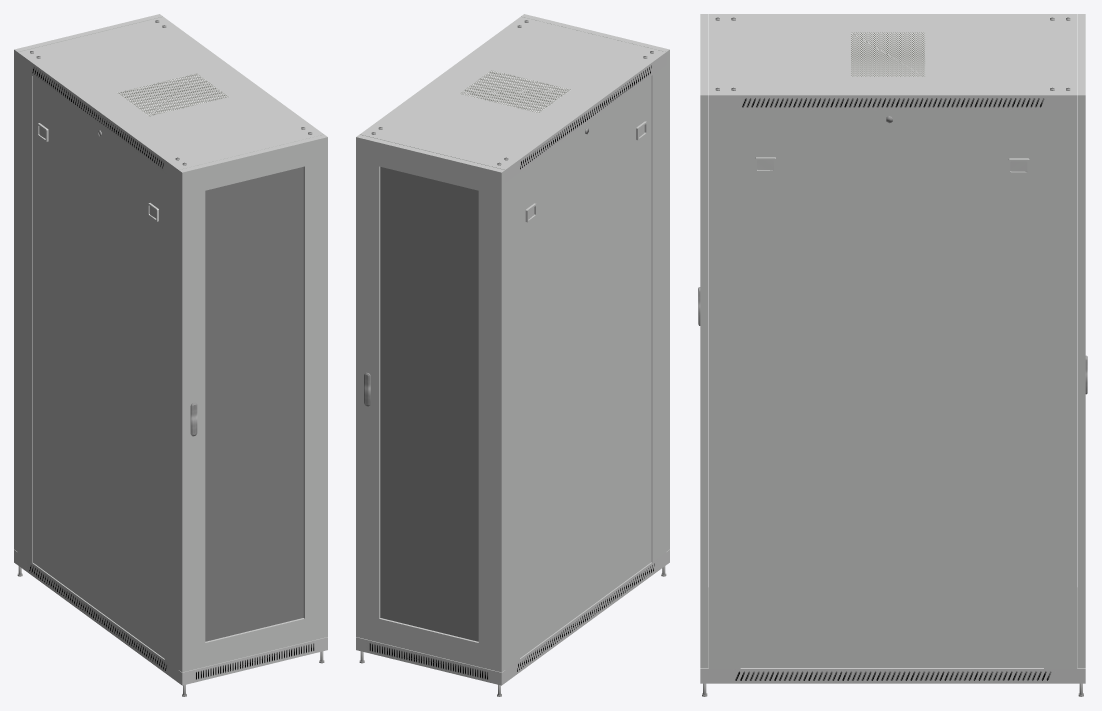
Rendered from RKAG47.fbx.
3 renders of one model, left to right at view 1: azimuth 30°, elevation 25°; view 2: azimuth 150°, elevation 25°; view 3: azimuth 270°, elevation 25°, orthographic. The views are drawn at different scales.
Visible parts, largest first — view 1: frontdoor, RKAG47, Box178, backdoor; view 2: backdoor, RKAG47, Box178, frontdoor; view 3: RKAG47, Box178, backdoor, frontdoor.
Boxes of the visible parts, bbox=[...] form: frontdoor: bbox=[178, 134, 327, 672]; RKAG47: bbox=[33, 76, 164, 658]; Box178: bbox=[14, 16, 327, 696]; backdoor: bbox=[14, 14, 162, 551]; backdoor: bbox=[356, 134, 505, 672]; RKAG47: bbox=[520, 76, 651, 657]; Box178: bbox=[356, 16, 669, 696]; frontdoor: bbox=[521, 14, 669, 551]; RKAG47: bbox=[740, 110, 1043, 667]; Box178: bbox=[700, 14, 1085, 696]; backdoor: bbox=[1077, 14, 1087, 668]; frontdoor: bbox=[698, 14, 708, 668].
Bounding box in the file's own units: 610 × 2072 × 1213.
6 materials, 5 textured.
